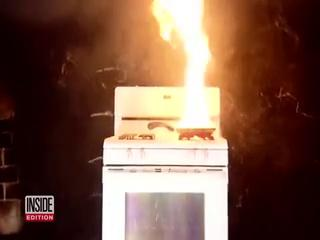Fire: (150, 0, 219, 130)
